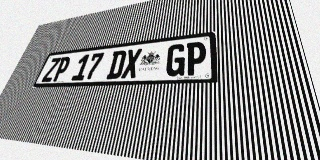1: (71, 54, 92, 81)
7: (83, 52, 104, 80)
D: (106, 50, 127, 79)
G: (165, 43, 186, 77)
P: (185, 41, 206, 76), (51, 56, 72, 82)
X: (121, 48, 142, 78)
Z: (41, 57, 61, 82)
